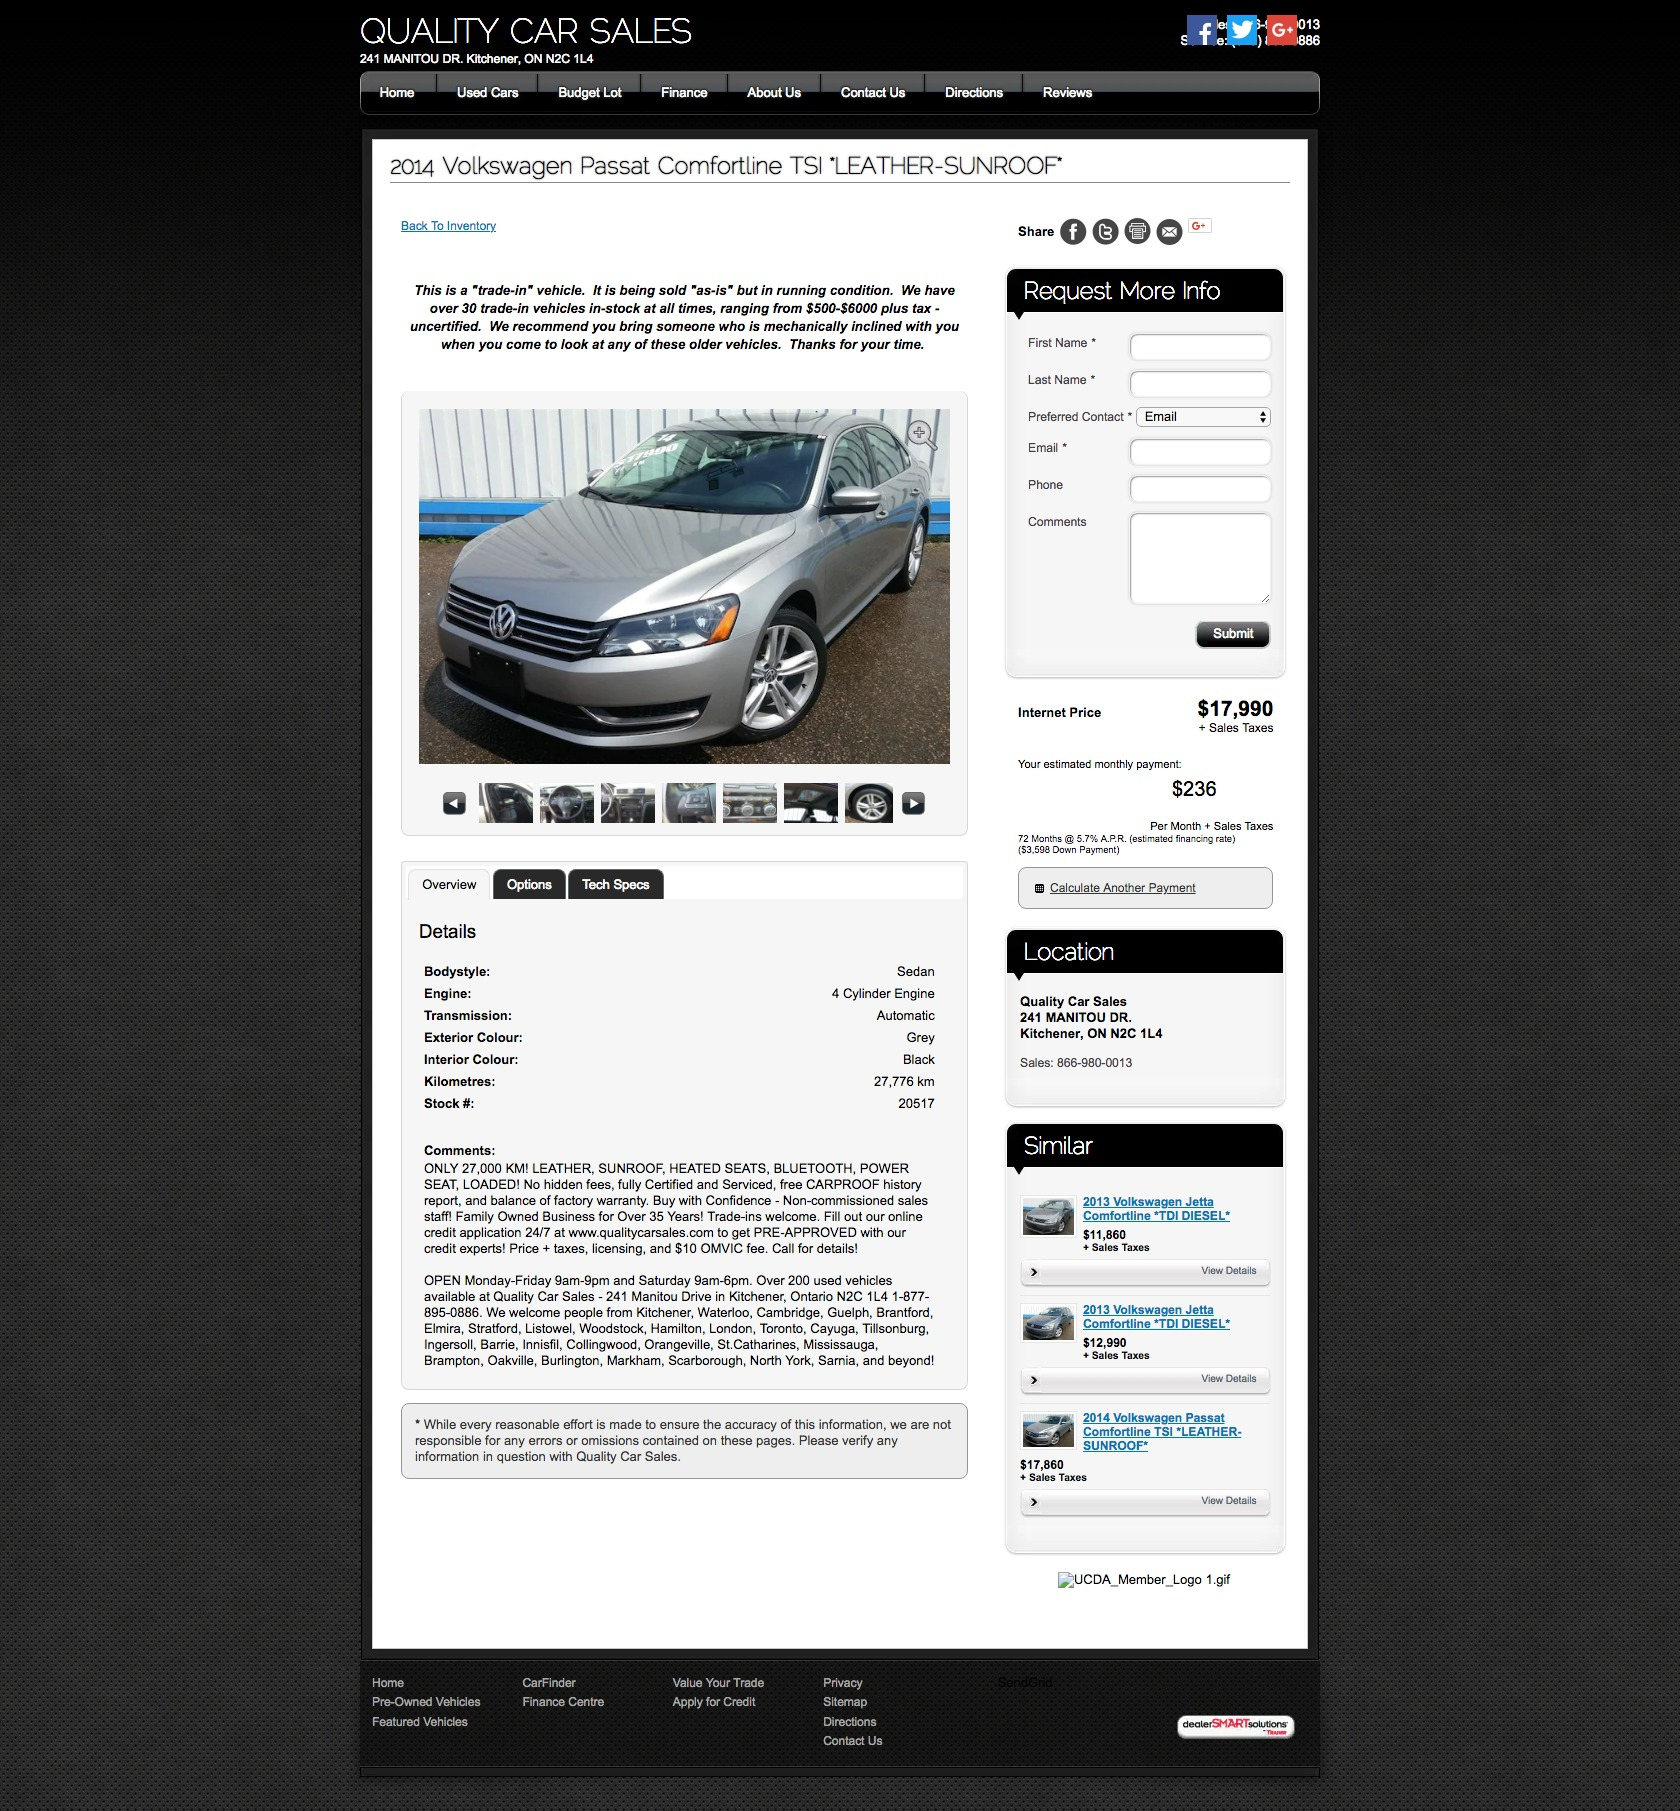car: (902, 793, 925, 816)
